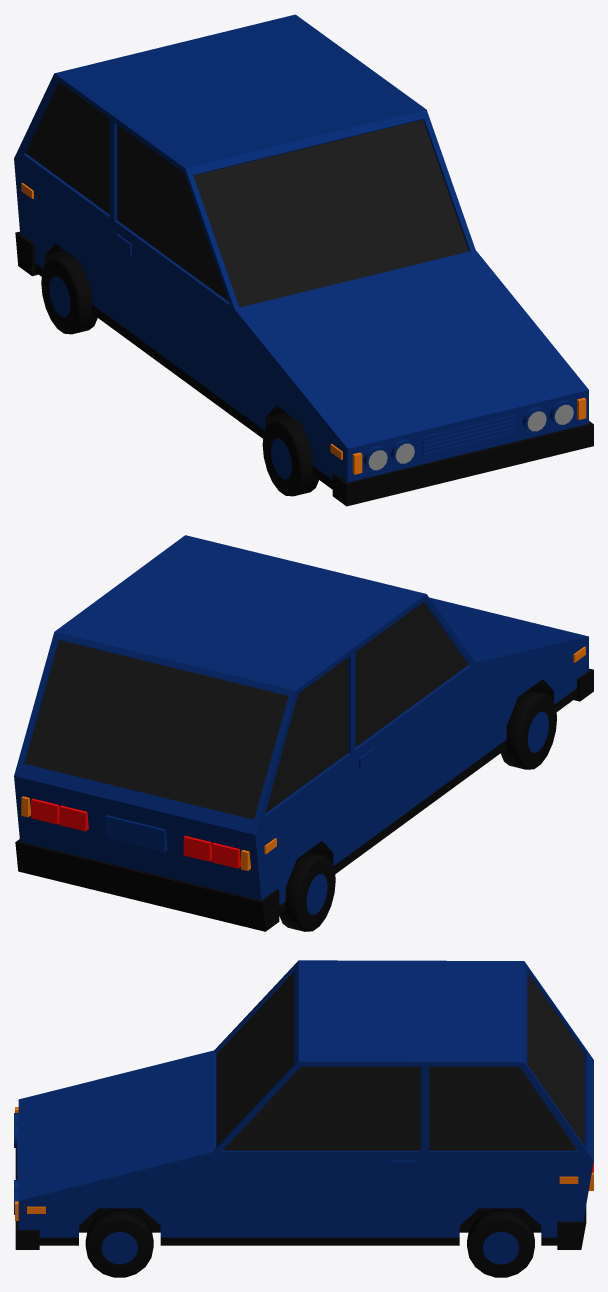
The model's file is BLUE CAR.FBX.
The picture shows the model from 3 angles, top to bottom: view 1: azimuth 30°, elevation 25°; view 2: azimuth 150°, elevation 25°; view 3: azimuth 270°, elevation 25°; orthographic projection. The views are drawn at different scales.
Visible parts, largest first — view 1: CAR_TYPE_2_BLUE, CAR_TYPE_2_BLUE_WHEEL_BL, CAR_TYPE_2_BLUE_WHEEL_FL; view 2: CAR_TYPE_2_BLUE, CAR_TYPE_2_BLUE_WHEEL_FL, CAR_TYPE_2_BLUE_WHEEL_BL; view 3: CAR_TYPE_2_BLUE, CAR_TYPE_2_BLUE_WHEEL_FR, CAR_TYPE_2_BLUE_WHEEL_BR.
Part boxes in pixels (bbox=[...]): CAR_TYPE_2_BLUE: bbox=[14, 14, 593, 506]; CAR_TYPE_2_BLUE_WHEEL_BL: bbox=[41, 254, 97, 334]; CAR_TYPE_2_BLUE_WHEEL_FL: bbox=[262, 416, 318, 496]; CAR_TYPE_2_BLUE: bbox=[14, 535, 593, 931]; CAR_TYPE_2_BLUE_WHEEL_FL: bbox=[500, 689, 556, 769]; CAR_TYPE_2_BLUE_WHEEL_BL: bbox=[279, 851, 335, 931]; CAR_TYPE_2_BLUE: bbox=[14, 960, 593, 1249]; CAR_TYPE_2_BLUE_WHEEL_FR: bbox=[85, 1209, 153, 1277]; CAR_TYPE_2_BLUE_WHEEL_BR: bbox=[467, 1209, 534, 1277].
Bounding box in the file's own units: 1.91 × 1.75 × 4.32.
